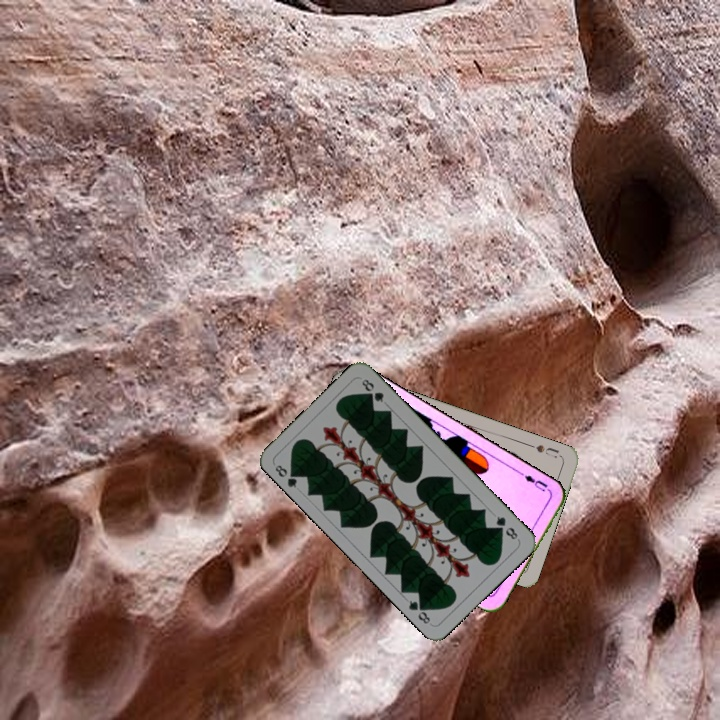EU: (516, 469, 550, 494)
G8: (271, 461, 302, 491), (492, 512, 520, 542)
SU: (525, 440, 562, 461)
